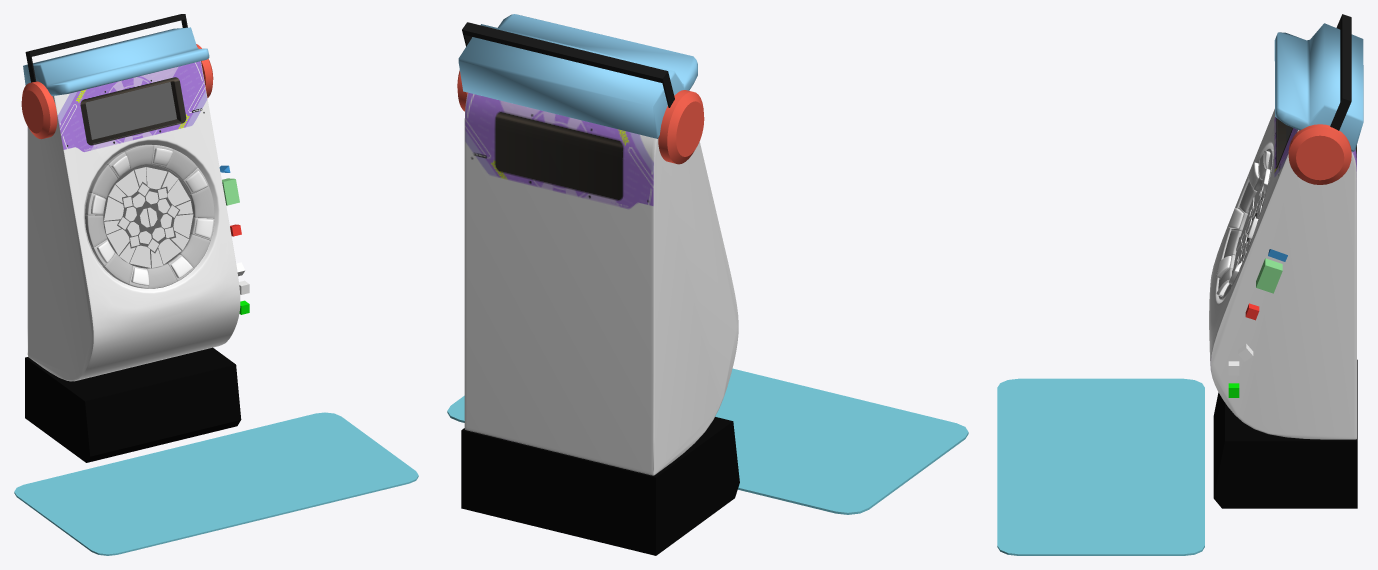
File: DX Unity.fbx
3 renders of one model, left to right at view 1: azimuth 30°, elevation 25°; view 2: azimuth 150°, elevation 25°; view 3: azimuth 270°, elevation 25°, orthographic. The views are drawn at different scales.
Parts seen in each view (by area): view 1: Body P1, GroundPlate, Base, Cap, Display P1, Ring, Buttons, HF, HF top, Buttons Base; view 2: Body P1, GroundPlate, Base, Cap, HF top, HF; view 3: GroundPlate, Body P1, Base, Cap, HF, HF top, Buttons, Ring, Enter, Buttons Base.
Part boxes in pixels (bbox=[...]): Body P1: bbox=[27, 61, 240, 381]; GroundPlate: bbox=[14, 412, 418, 555]; Base: bbox=[25, 347, 241, 462]; Cap: bbox=[23, 27, 209, 95]; Display P1: bbox=[85, 82, 193, 268]; Ring: bbox=[85, 144, 214, 288]; Buttons: bbox=[91, 148, 213, 285]; HF: bbox=[21, 44, 213, 139]; HF top: bbox=[25, 14, 187, 82]; Buttons Base: bbox=[85, 145, 214, 288]; Body P1: bbox=[464, 92, 738, 475]; GroundPlate: bbox=[447, 368, 968, 514]; Base: bbox=[461, 417, 739, 555]; Cap: bbox=[458, 14, 697, 138]; HF top: bbox=[462, 22, 674, 107]; HF: bbox=[457, 70, 704, 164]; GroundPlate: bbox=[997, 378, 1204, 555]; Body P1: bbox=[1209, 109, 1356, 439]; Base: bbox=[1213, 359, 1357, 508]; Cap: bbox=[1274, 23, 1363, 151]; HF: bbox=[1288, 124, 1351, 184]; HF top: bbox=[1330, 14, 1351, 130]; Buttons: bbox=[1216, 150, 1270, 296]; Ring: bbox=[1218, 149, 1273, 299]; Enter: bbox=[1256, 258, 1282, 293]; Buttons Base: bbox=[1219, 148, 1273, 300].
Size of what is drawn, in the model's own units: 192 by 210 by 169.
